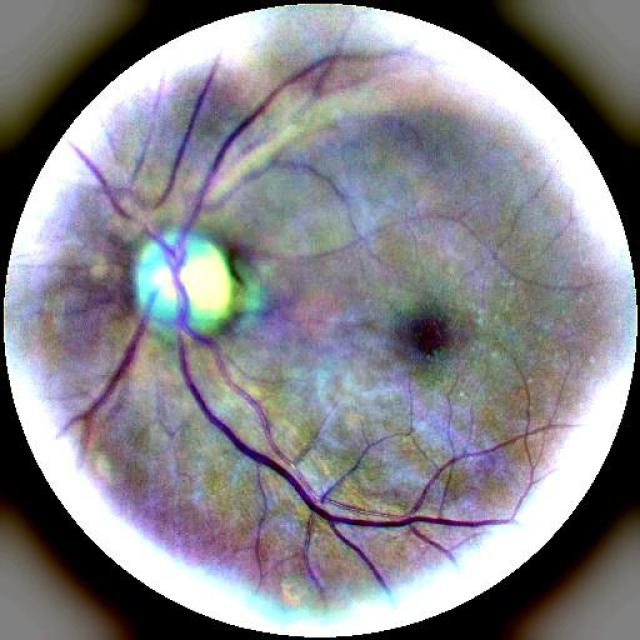Macula: (408, 314, 448, 355)
Nerves: (166, 288, 507, 587), (162, 48, 417, 297), (76, 150, 190, 296), (63, 288, 161, 452)
Optic Disk: (136, 229, 259, 335)
